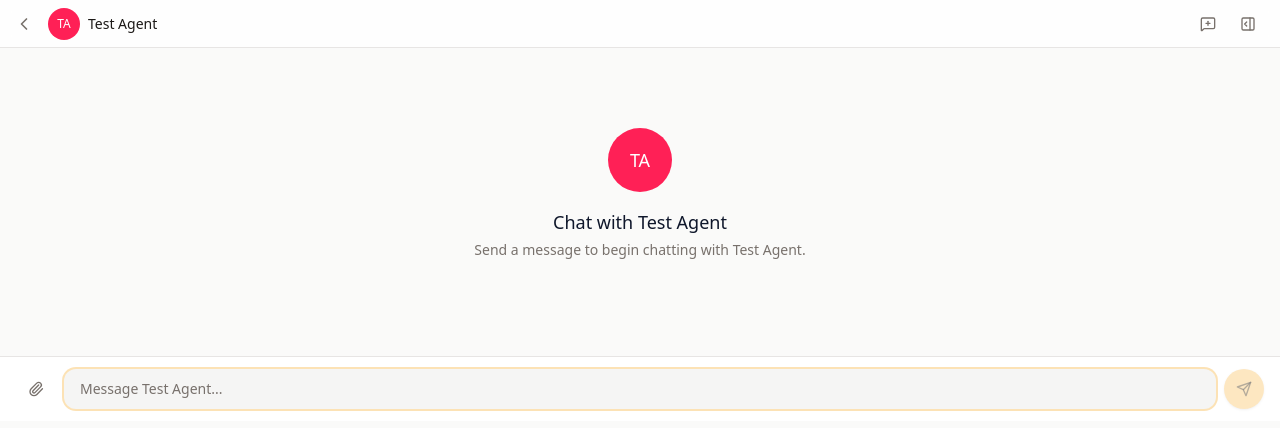
Scenario: WorkforceThread – Attachment Features › Error handling › keeps the failed message visible while the error is on screen
expect the text "Test Agent" is shown: met, box [88,14,157,34]
Type "Still here" into the text box with placeholder "Message Test Agent..." at coordinates (640, 389), box [64,369,1216,409]
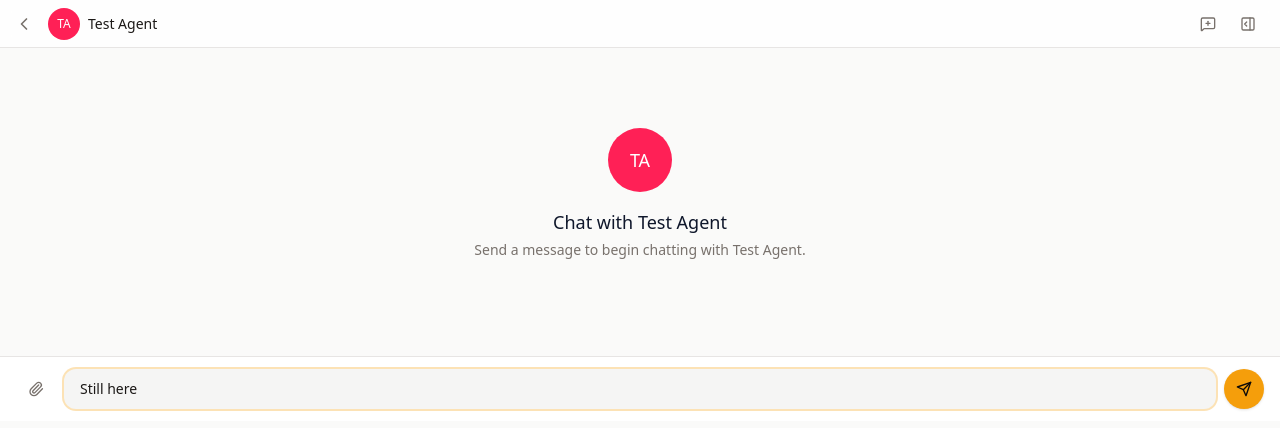
Click the button named "Send" at coordinates (1244, 389), box [1224,369,1264,409]
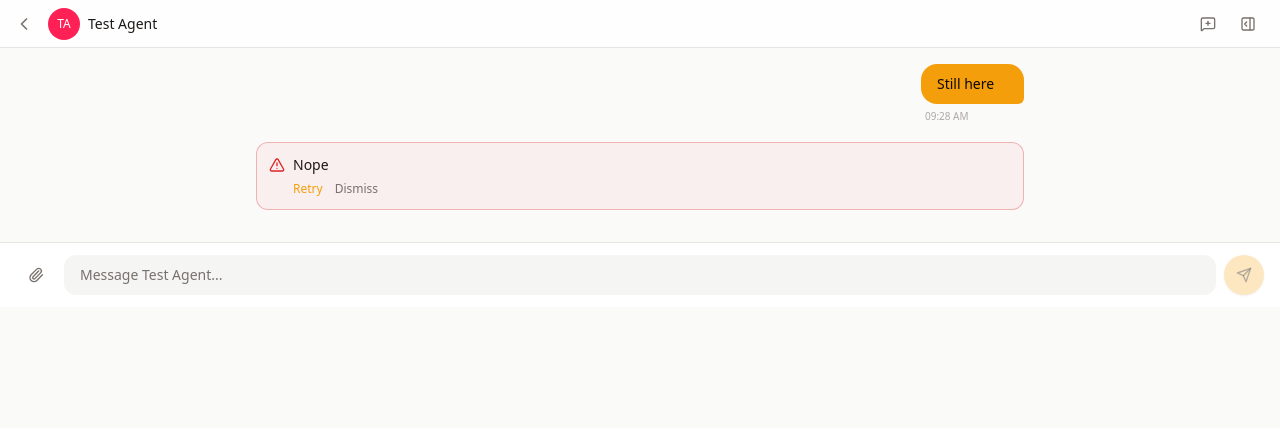
expect the message "Nope Retry Dismiss" is shown: met, box [256,142,1024,210]
expect the text "Still here" is shown: met, box [937,74,994,93]
